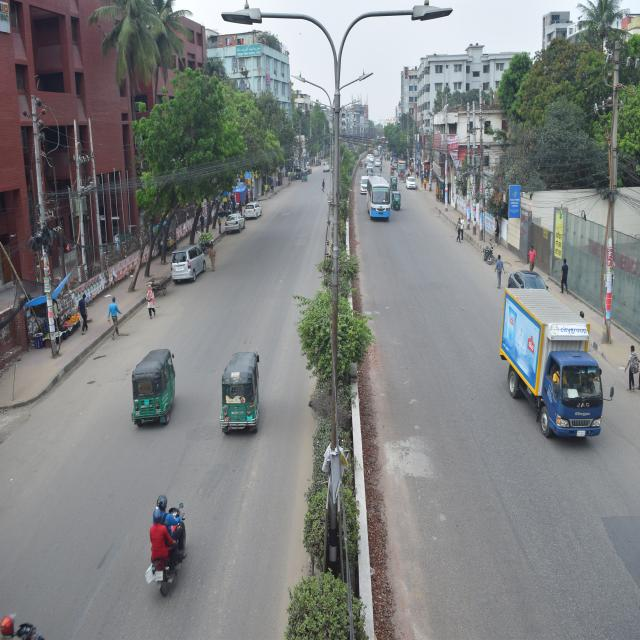car: (509, 258, 542, 286), (242, 195, 268, 226), (217, 217, 250, 236), (406, 161, 417, 189), (372, 154, 383, 170), (362, 173, 368, 197), (321, 156, 330, 170), (366, 150, 372, 164)
microbus: (168, 236, 205, 290)
motorbike: (148, 483, 188, 589), (481, 237, 499, 269)
pickup-van: (483, 278, 608, 441)
